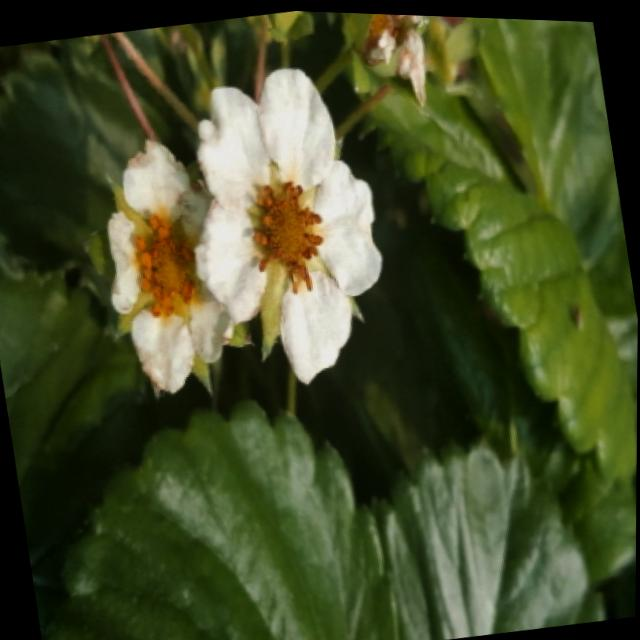Blossom Blight: (247, 172, 331, 298), (129, 205, 202, 320)
